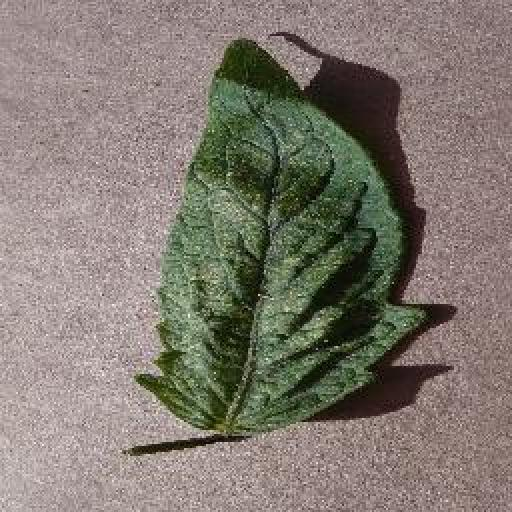disease_tomato: (137, 37, 428, 432)
